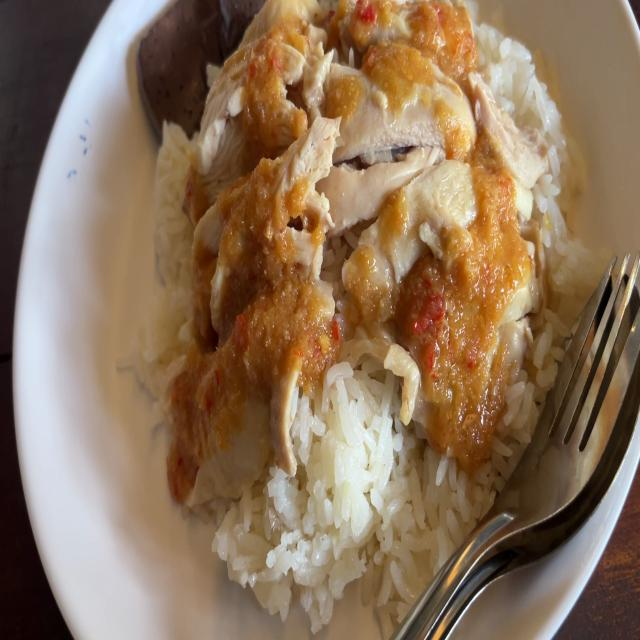chicken_rice: (206, 5, 513, 478)
noodle: (130, 0, 232, 140)
